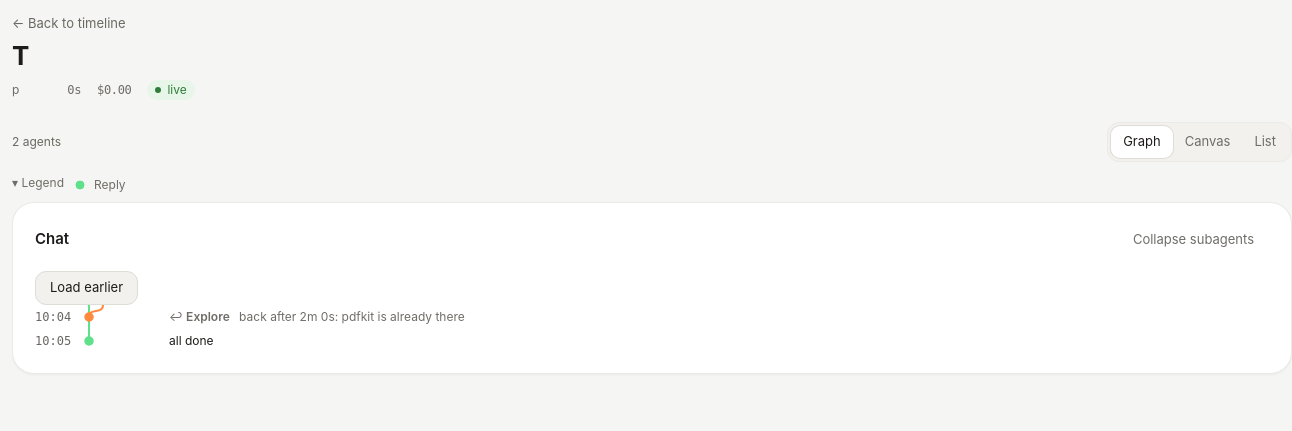
Test: opens a live session at its newest page and pages upward
Expected: the text "all done" is shown, [169,332,214,348]
What coordinates should you click on to do the following:
click the button "Load earlier"
I would click on:
 (87, 288)
Its box is [35,270,138,304].
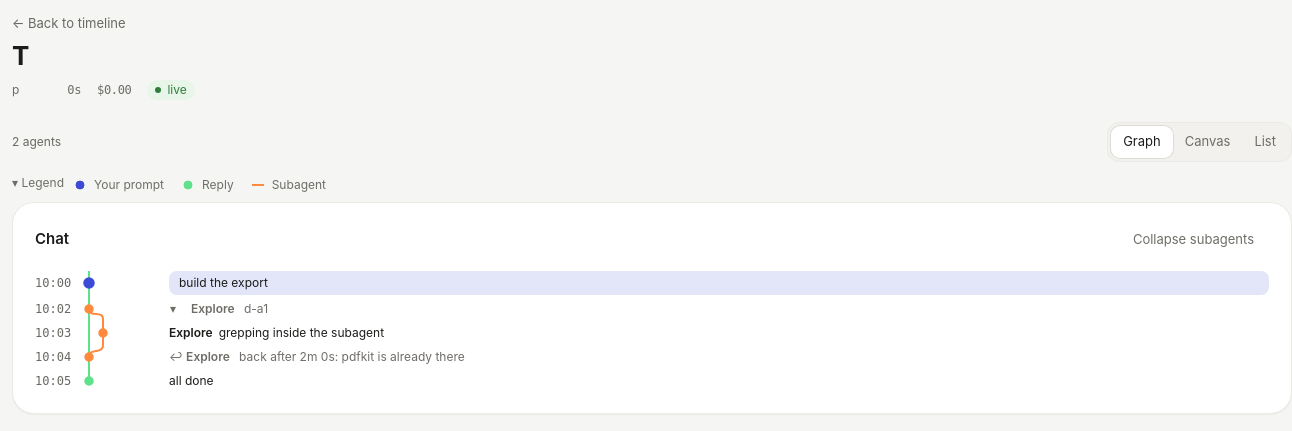
Result: the text "build the export" is shown at [179,274,268,290]
